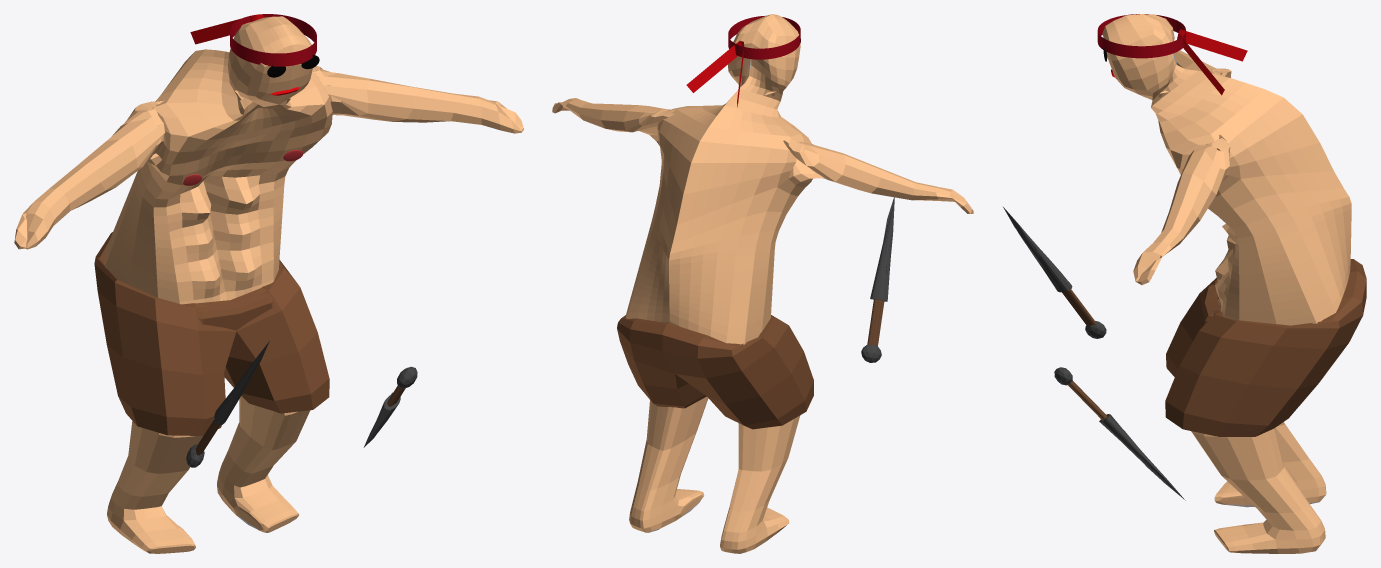
File: pravěk_hrdina.fbx
3 views of the same model, side by side, from view 1: azimuth 30°, elevation 25°; view 2: azimuth 150°, elevation 25°; view 3: azimuth 270°, elevation 25° (orthographic). The views are drawn at different scales.
Parts seen in each view (by area): view 1: Cube, Cube.002, BezierCircle, Cylinder, Cylinder.001, NurbsPath; view 2: Cube, Cube.002, Cylinder, BezierCircle, NurbsPath; view 3: Cube, Cube.002, Cylinder, Cylinder.001, BezierCircle, NurbsPath.
Boxes of the visible parts, x1,y1,x2,y2 form: Cube: (14, 16, 523, 553); Cube.002: (94, 232, 329, 435); BezierCircle: (230, 14, 316, 66); Cylinder: (186, 341, 269, 467); Cylinder.001: (363, 366, 417, 447); NurbsPath: (190, 14, 264, 44); Cube: (552, 14, 973, 553); Cube.002: (617, 315, 813, 429); Cylinder: (861, 197, 894, 362); BezierCircle: (728, 15, 800, 59); NurbsPath: (686, 41, 744, 107); Cube: (1102, 14, 1351, 553); Cube.002: (1165, 259, 1366, 436); Cylinder: (1003, 207, 1106, 338); Cylinder.001: (1054, 367, 1185, 500); BezierCircle: (1097, 14, 1185, 58); NurbsPath: (1177, 29, 1247, 95).
Bounding box in the file's own units: 260 × 275 × 178.
